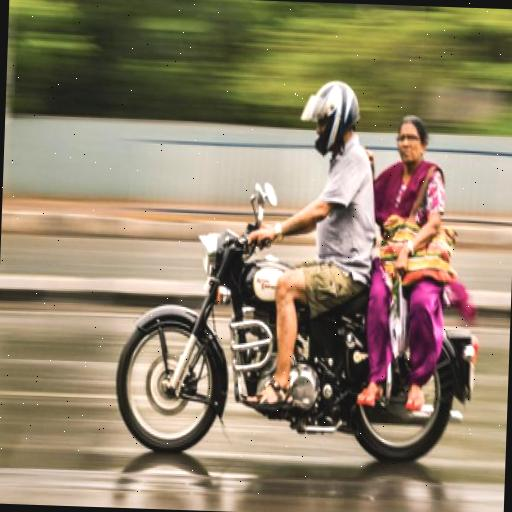helmet: (110, 54, 384, 456)
